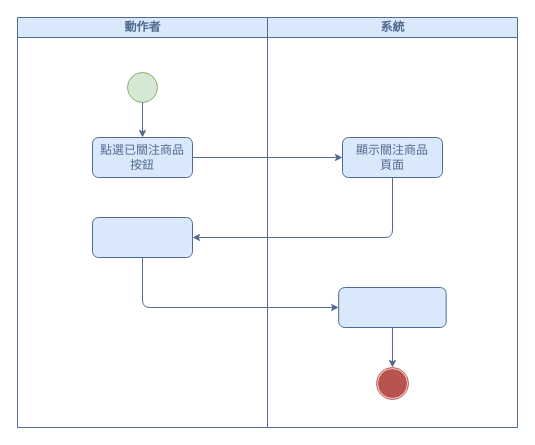
Image size: 535x445. Some labels were removed from this diagram. The shapes that lost their labels are listed below. From the top down, each one's centre as x and y in pixels, then its label:
At (x=142, y=237): "點擊任一 已關注商品".
At (x=392, y=307): "顯示該商品的價錢 和所有銷售業面".
